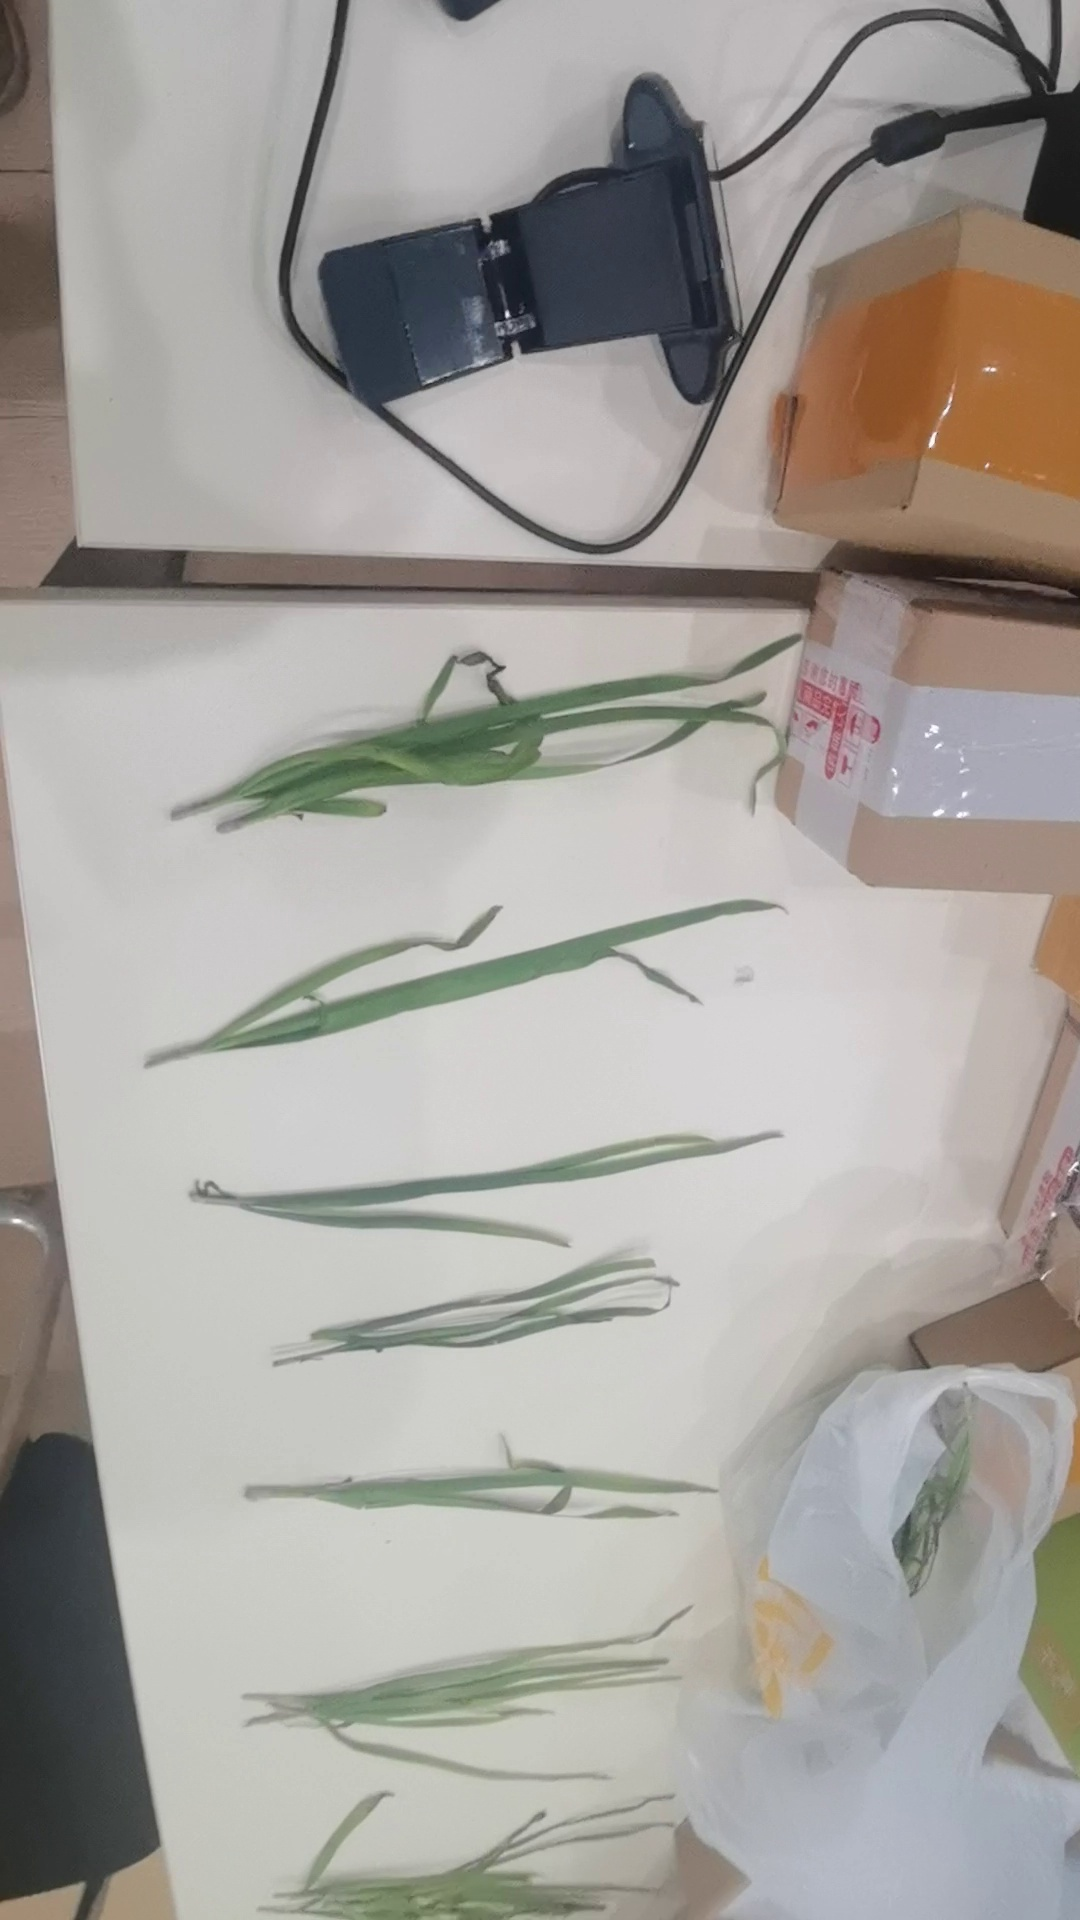chives: (136, 653, 785, 847), (153, 902, 812, 1069), (218, 1639, 843, 1800), (208, 1423, 781, 1557), (253, 1253, 765, 1393), (277, 1789, 783, 1920), (181, 1156, 824, 1258)
